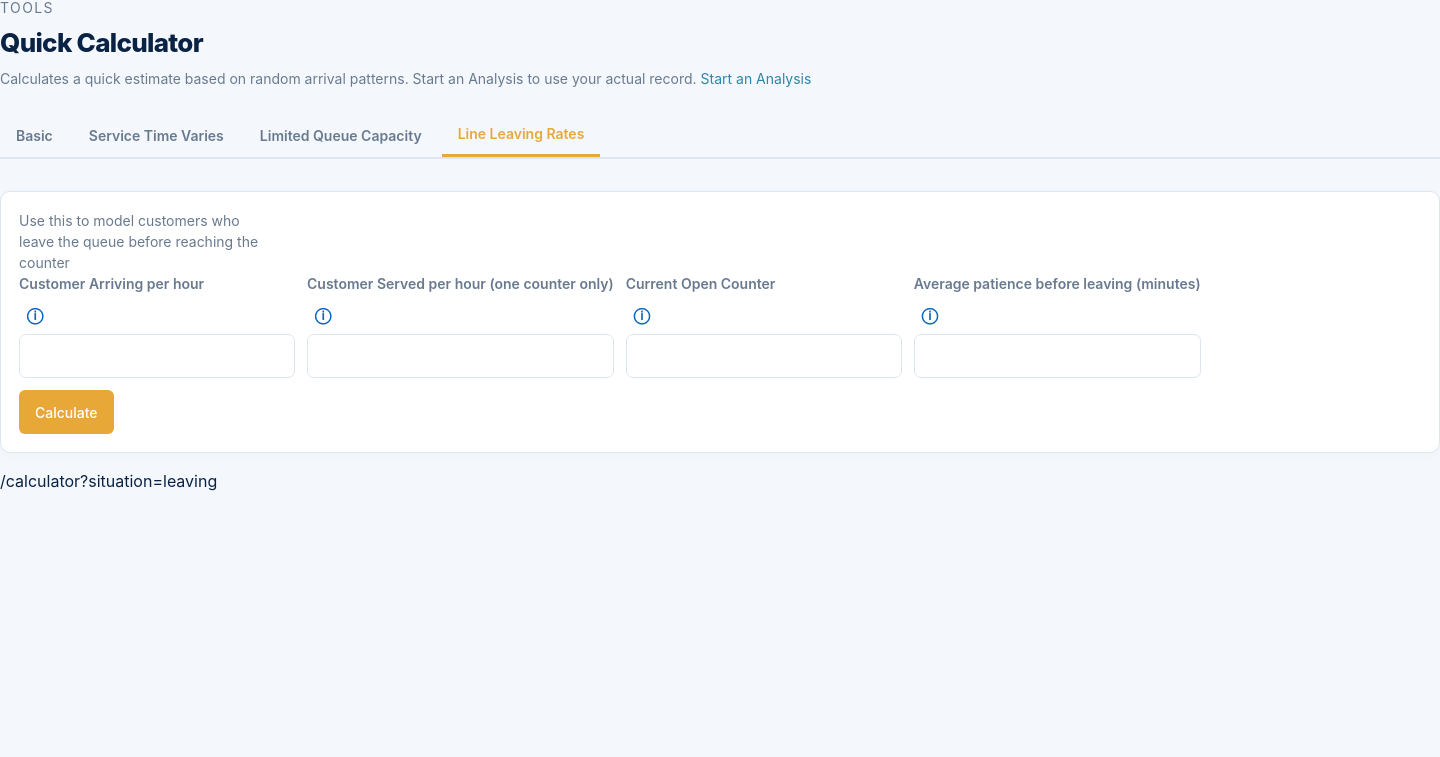
Quick calculator (U9 + B2) › discloses Erlang-A workload for main and neighbors (signed in: false)
Type "20" into the number field labelled "Customer Arriving per hour". click: (157, 356)
box: [19,334,295,378]
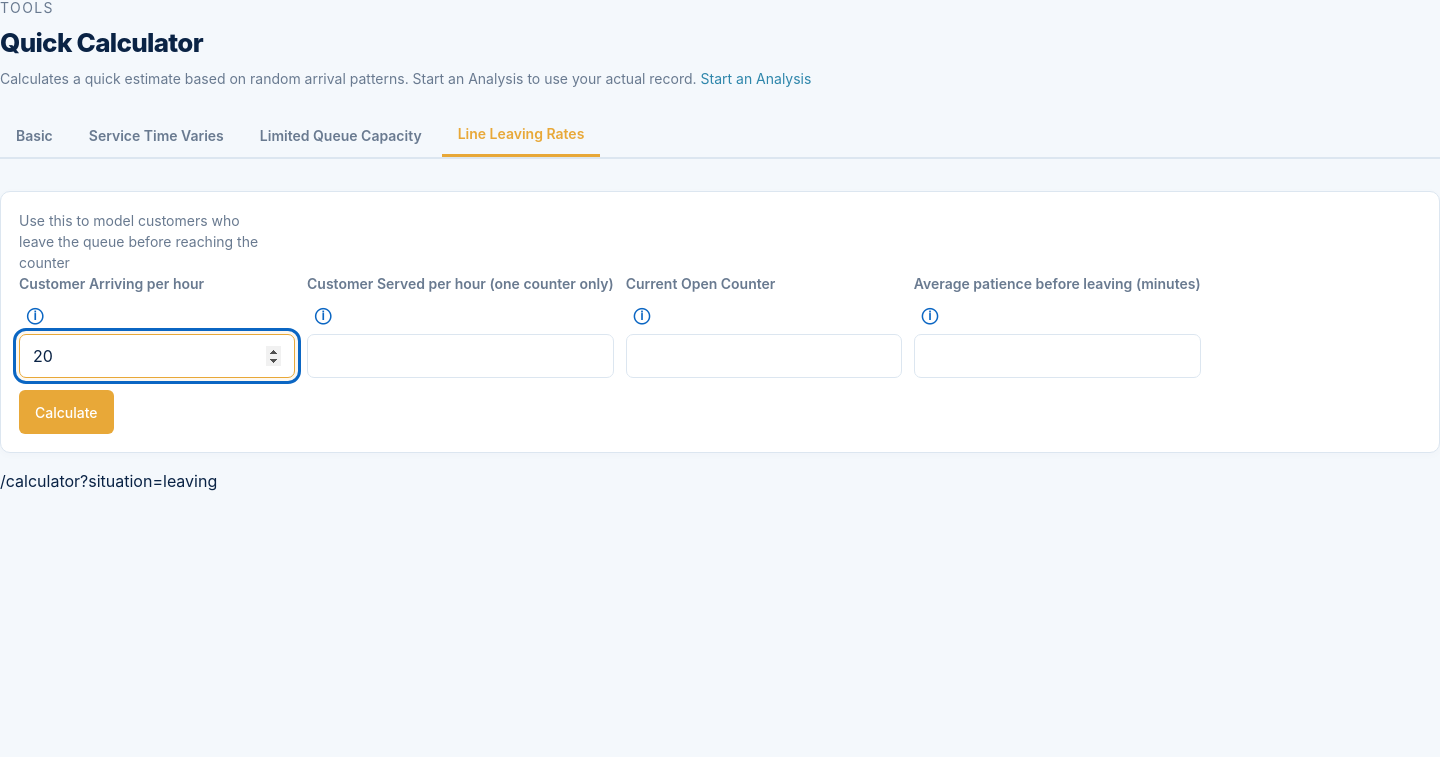
Type "6" into the number field labelled "Customer Served per hour (one counter only)". click: (460, 356)
box: [307,334,614,378]
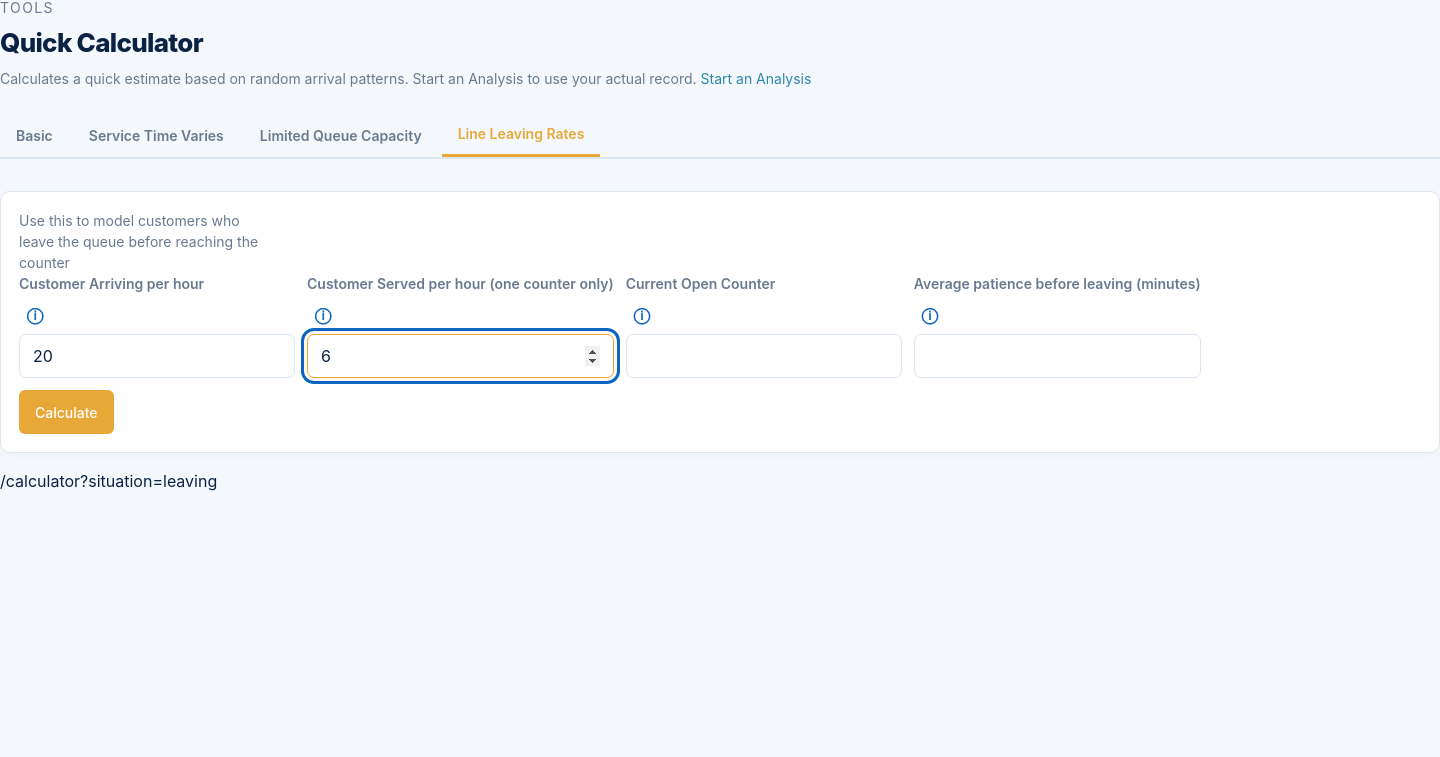
Type "2" into the number field labelled "Current Open Counter". click: (764, 356)
box: [626,334,902,378]
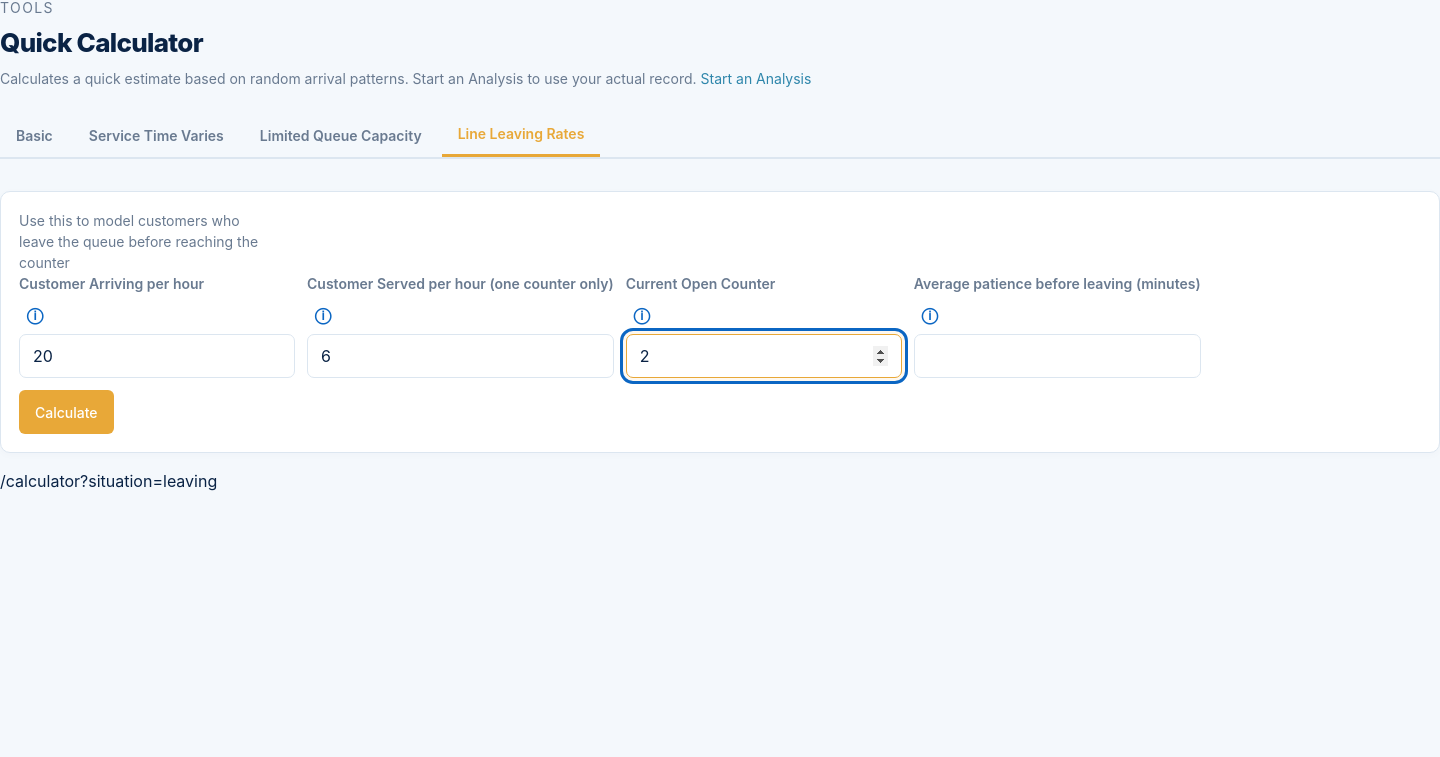
Type "60" into the number field labelled "Average patience before leaving (minutes)". click: (1057, 356)
box: [914,334,1201,378]
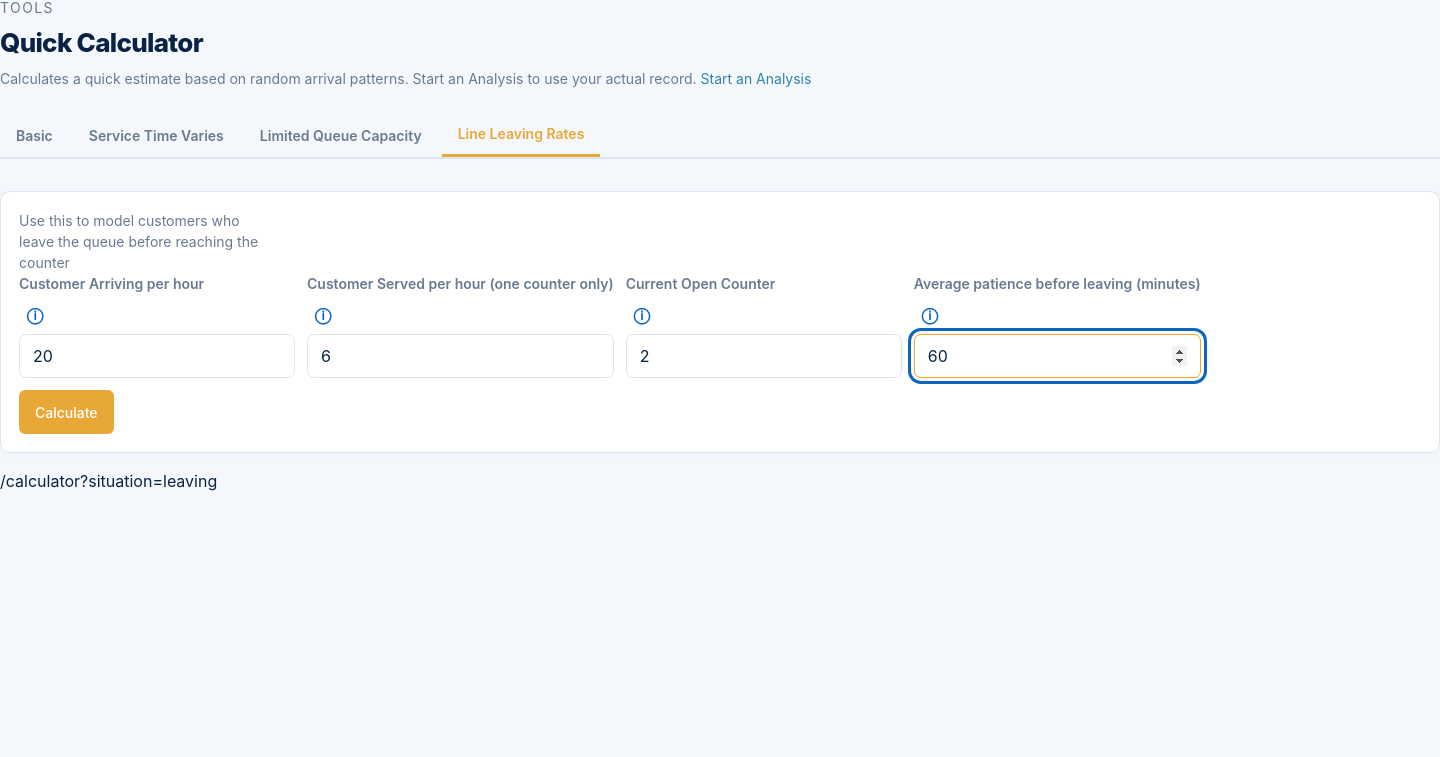
Click the button "Calculate". click: (66, 412)
box: [19,390,114,434]
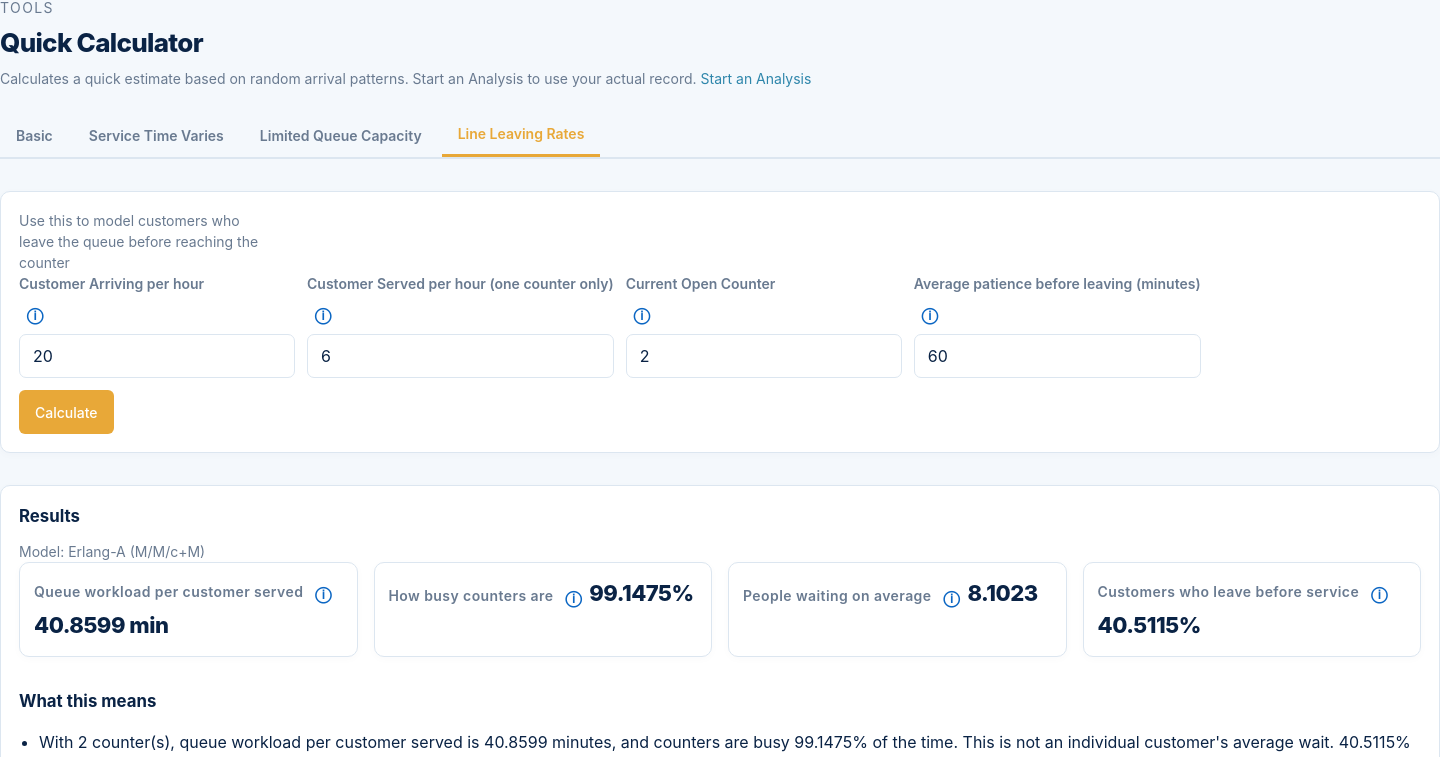
expect the element with test id "calculator-wait" does not show "Average wait in line": met, box [19,562,358,657]
expect the element with test id "calculator-wait" shows "Queue workload per customer served": met, box [34,583,303,600]
expect the element with test id "calculator-wait" shows "40.8599 min": met, box [34,612,168,638]
Hover over the button named "About: Queue workload per customer served" at (323, 593), box [307,577,339,609]
(page scrolled)
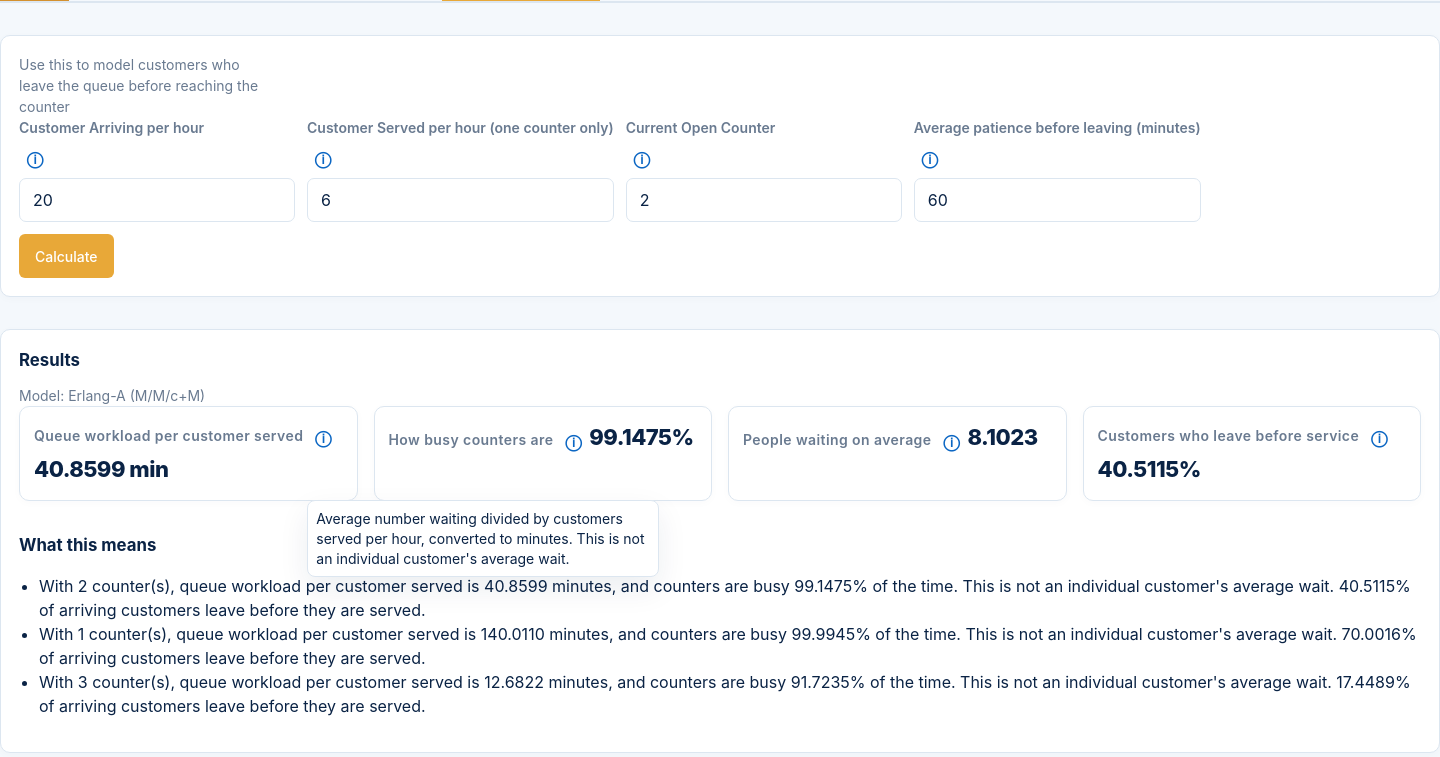
expect the number of list items is 3: met, box [39,574,1421,622]; [39,622,1421,670]; [39,670,1421,718]
expect the 1st list item shows "queue workload per customer served": met, box [39,576,1411,620]
expect the tooltip shows "This is not an individual customer's average wait.": met, box [316,510,645,567]
